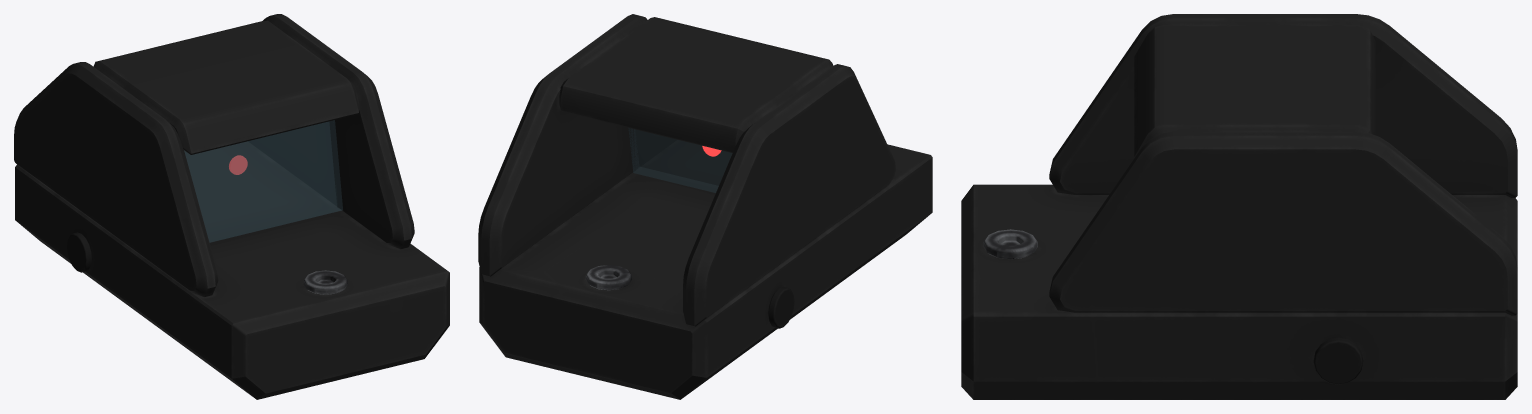
File: Optic_PistolDot.fbx
The picture shows the model from 3 angles, left to right: view 1: azimuth 30°, elevation 25°; view 2: azimuth 150°, elevation 25°; view 3: azimuth 270°, elevation 25°; orthographic projection. The views are drawn at different scales.
Parts seen in each view (by area): view 1: Body, Lens; view 2: Body, Lens; view 3: Body.
Part boxes in pixels (box(x1,y1,x2,y2)): Body: box(14, 14, 449, 399); Lens: box(184, 120, 342, 242); Body: box(478, 14, 932, 399); Lens: box(628, 128, 732, 192); Body: box(961, 14, 1517, 399).
Size of the model in its own units: 0.0266 by 0.0245 by 0.045.
